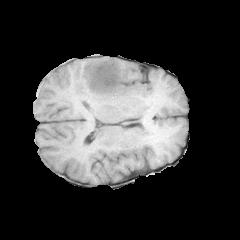glioma: (71, 61, 125, 107)
